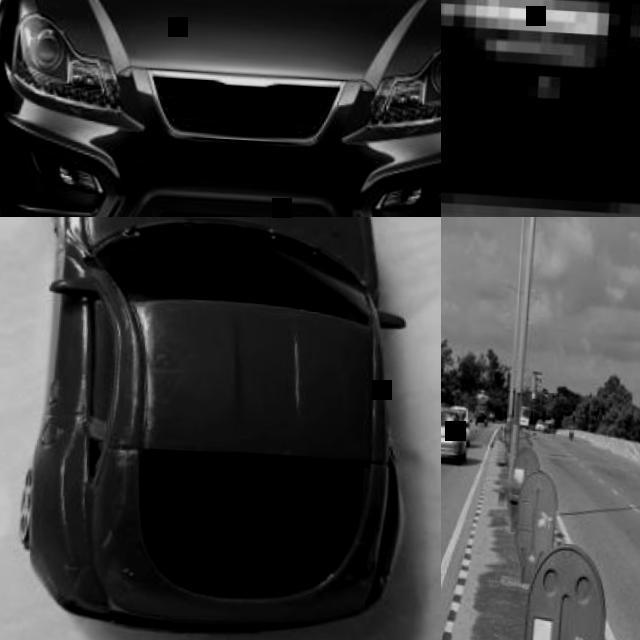car: (32, 181, 465, 631)
